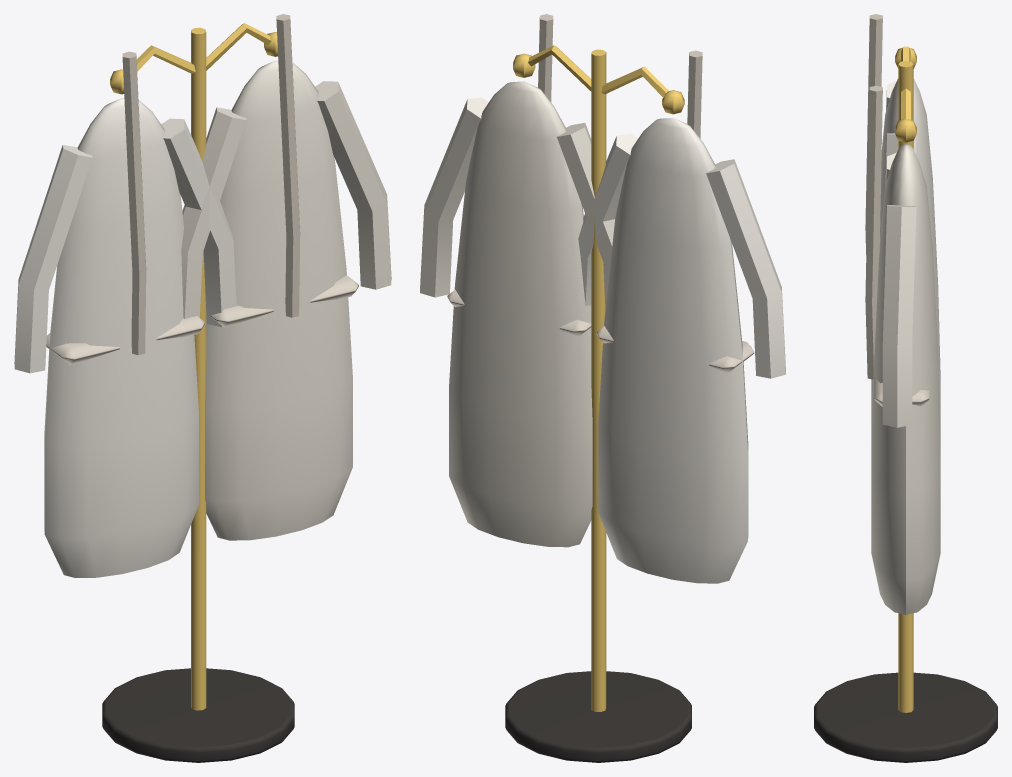
Rendered from robe_stand.glb.
The picture shows the model from 3 angles, left to right: view 1: azimuth 30°, elevation 25°; view 2: azimuth 150°, elevation 25°; view 3: azimuth 270°, elevation 25°; orthographic projection. The views are drawn at different scales.
Visible parts, largest first — view 1: robe_stand; view 2: robe_stand; view 3: robe_stand.
Part boxes in pixels (left/top/right/bottom): robe_stand: left=14, top=14, right=391, bottom=762; robe_stand: left=420, top=14, right=785, bottom=762; robe_stand: left=814, top=14, right=997, bottom=762.
Size of the model in its own units: 0.9799 by 1.74 by 0.4333.
